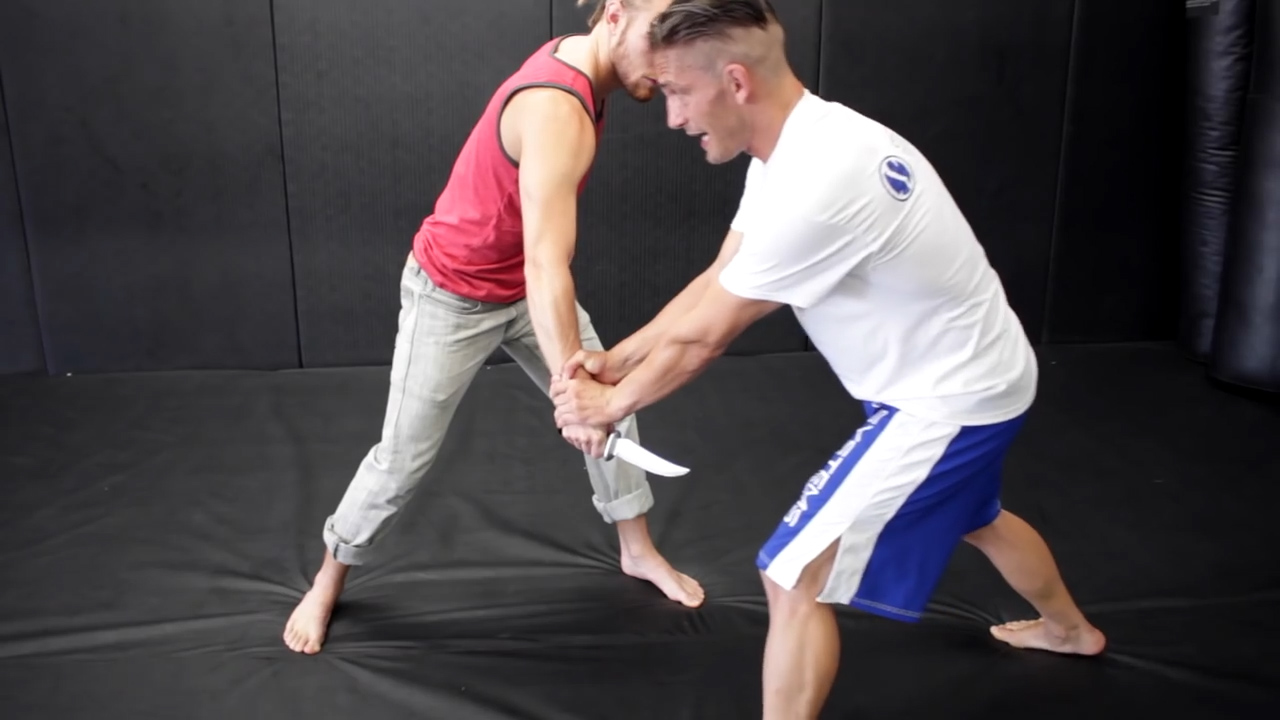knife: (551, 424, 698, 485)
